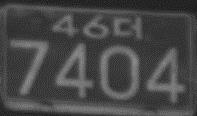0: (98, 43, 140, 101)
4: (145, 45, 185, 104), (55, 40, 94, 98), (51, 12, 80, 38)
6: (82, 12, 109, 39)
7: (8, 37, 48, 94)
더: (111, 15, 143, 40)
